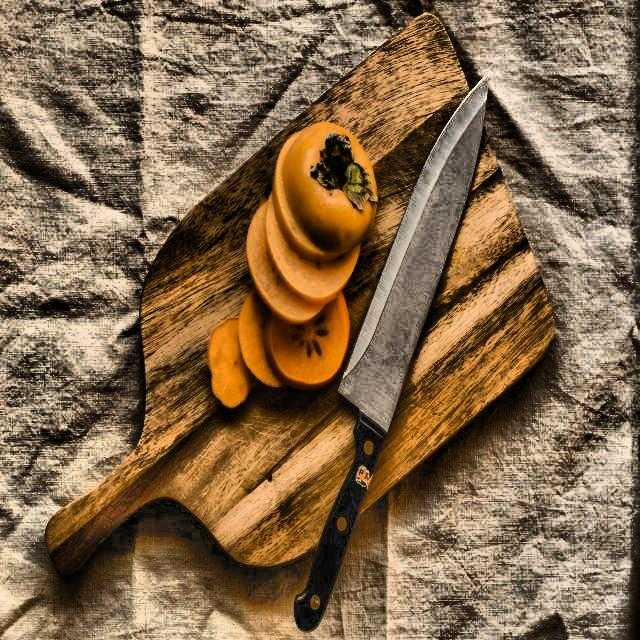knife: (288, 74, 496, 633)
